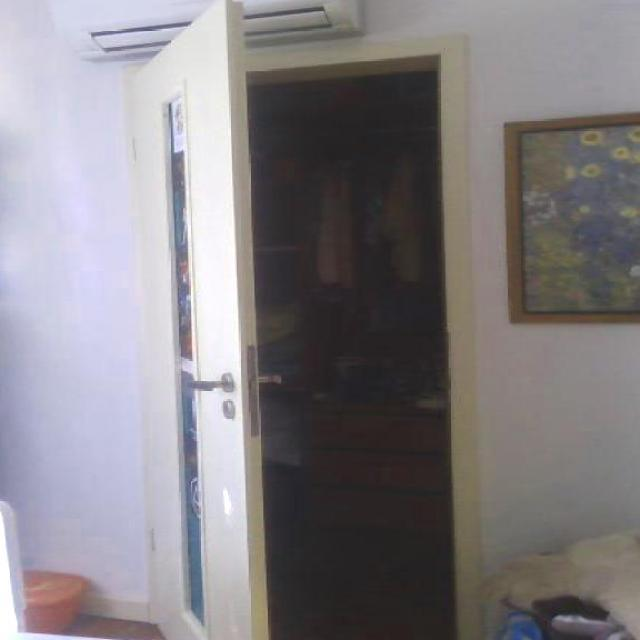door: (129, 0, 268, 639)
